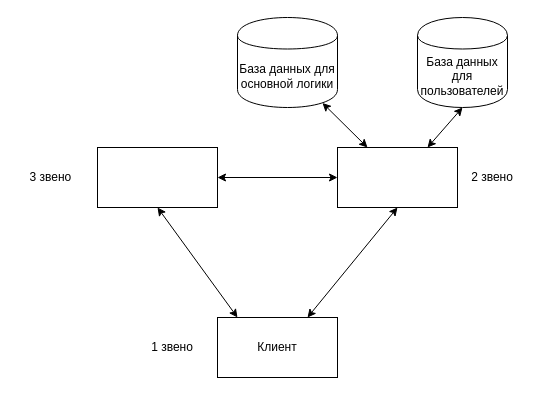
This 534x395 diagram has some shape labels left out. The box of each missing label's shape, as (x1, y1, x2, y2) in pixels:
Основной сервер: (336, 146, 458, 208)
Сторонний сервер аутентификации: (96, 146, 218, 208)
